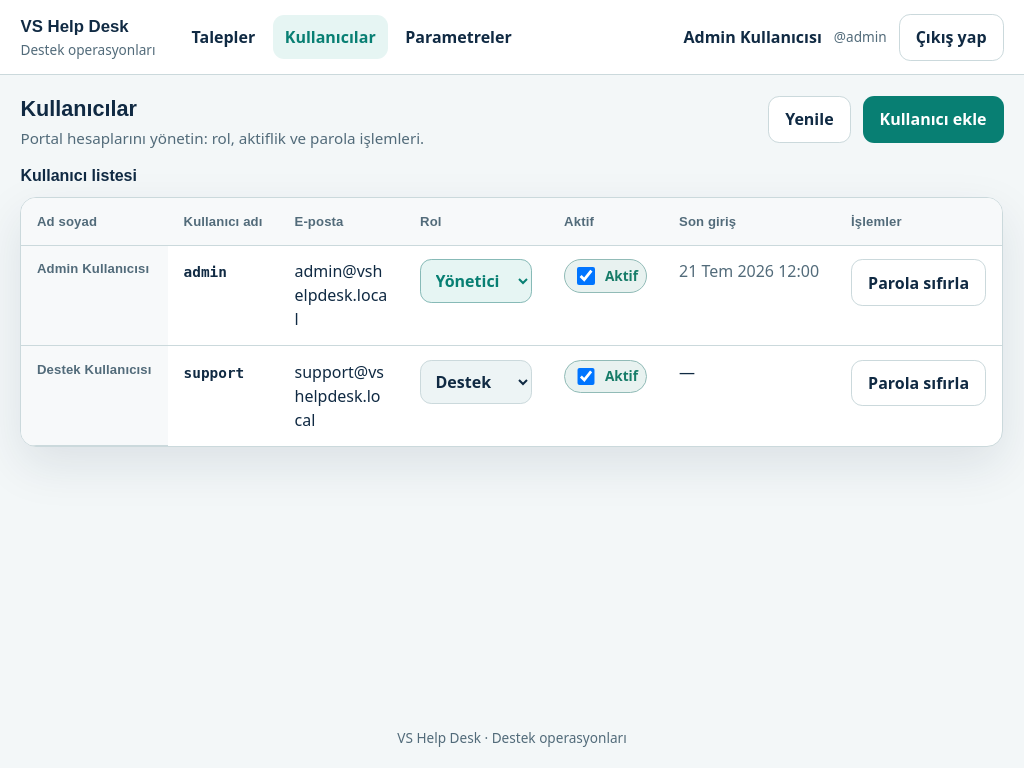
Test: UsersPage › shows Turkish last-admin-required message on demote failure
Expected: the table is shown, x1=22 y1=198 x2=1003 y2=446
Select "Destek" in the dropdown named "admin rolü" next to "admin@vshelpdesk.local" at (477, 282), box x1=421 y1=260 x2=533 y2=304
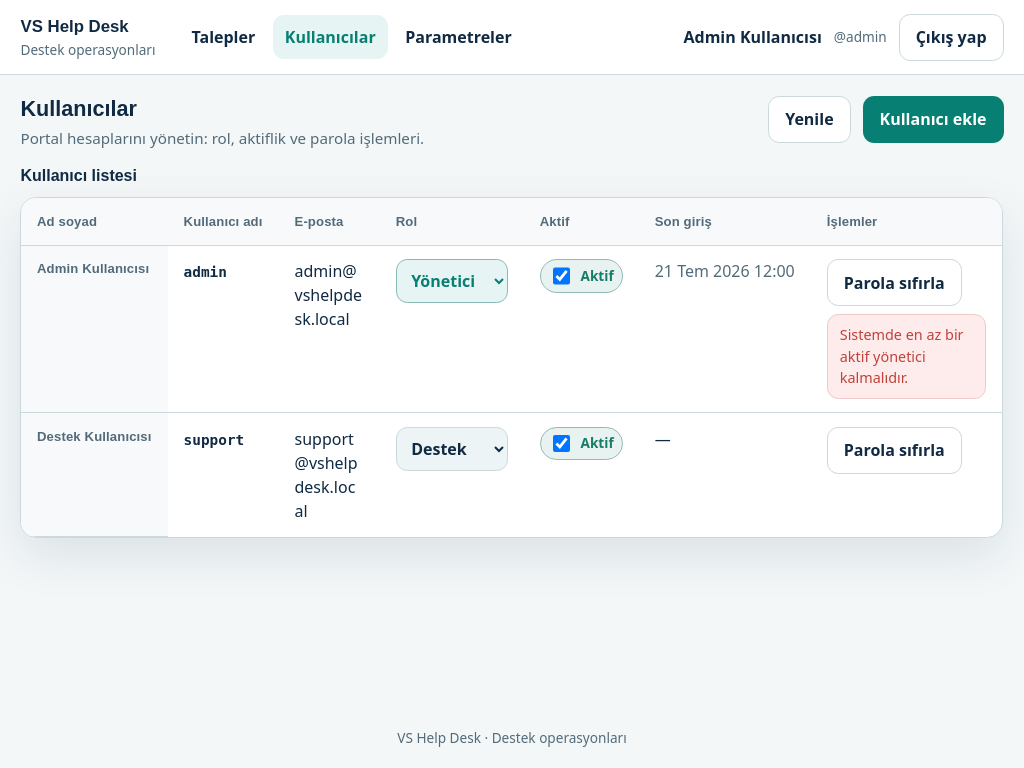
Expected: the message reads "Sistemde en az bir aktif yönetici kalmalıdır.", x1=840 y1=325 x2=964 y2=388
